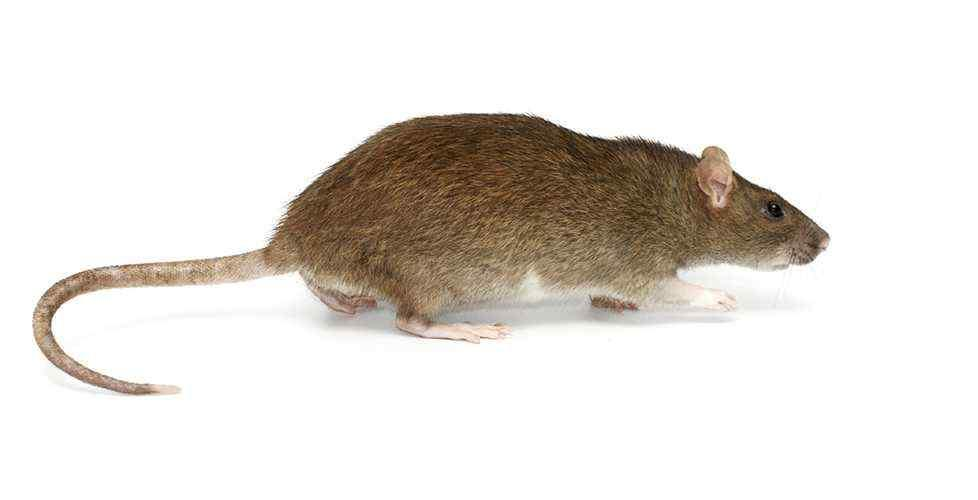rat: (282, 112, 855, 348)
